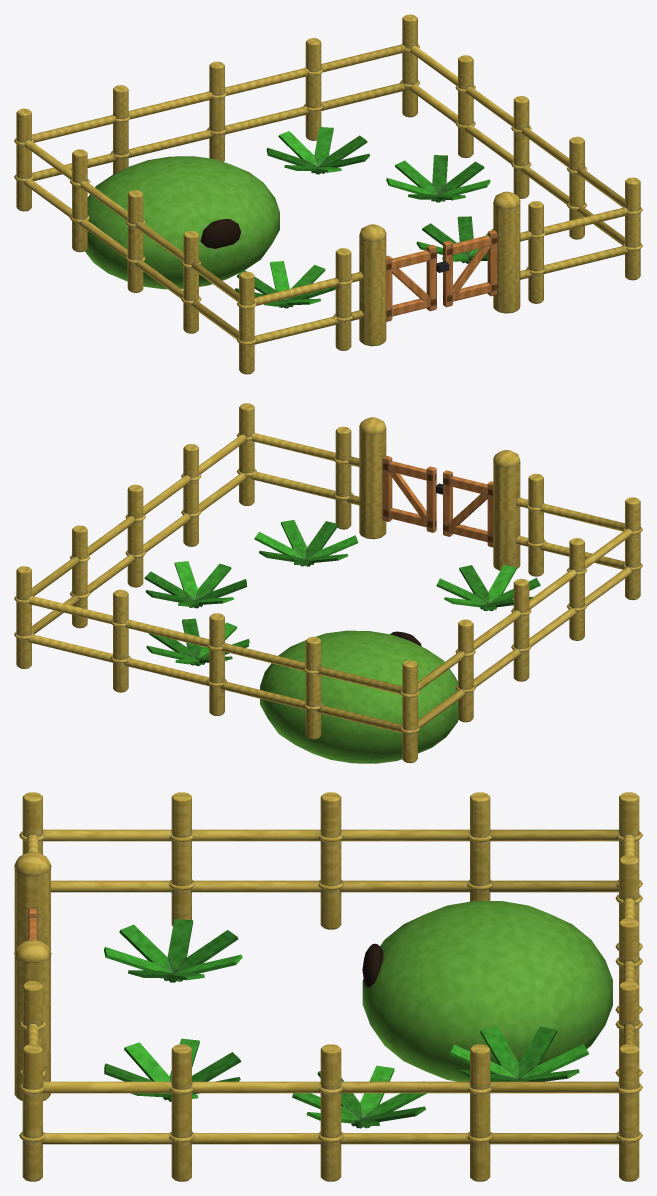
File: kiwi_burrow.glb
3 views of the same model, one above another, from view 1: azimuth 30°, elevation 25°; view 2: azimuth 150°, elevation 25°; view 3: azimuth 270°, elevation 25° (orthographic). The views are drawn at different scales.
Parts seen in each view (by area): view 1: kiwi_burrow; view 2: kiwi_burrow; view 3: kiwi_burrow.
Boxes of the visible parts, x1,y1,x2,y2 form: kiwi_burrow: [14, 14, 642, 374]; kiwi_burrow: [14, 403, 642, 763]; kiwi_burrow: [14, 792, 642, 1181].
Bounding box in the file's own units: 1.99 × 0.7895 × 2.
Materials: 1 (1 with a texture image).
